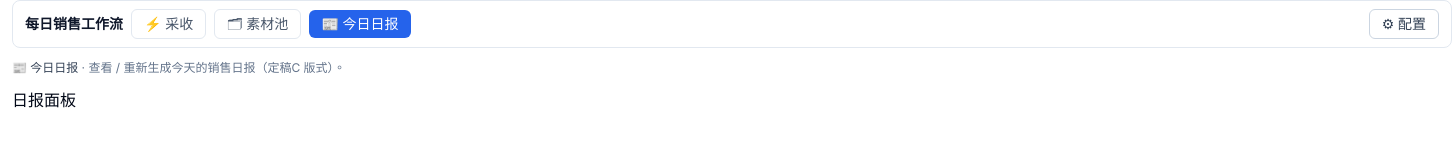
it: ResearchWorkflowBoard › shows a stage hint naming the active stage and its purpose
The image size is (1452, 160).
Click the button with test id "research-pipeline-tab-harvest" at (169, 24), box [131,9,206,39]
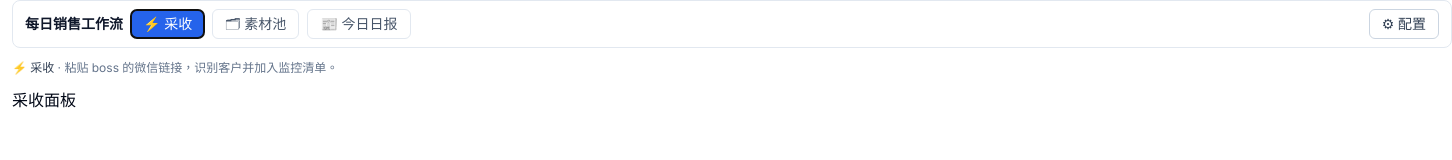
Now the element with test id "research-pipeline-stage-hint" shows "⚡ 采收", box [12,60,54,75]
Now the element with test id "research-pipeline-stage-hint" shows "粘贴 boss 的微信链接", box [64,60,338,75]
